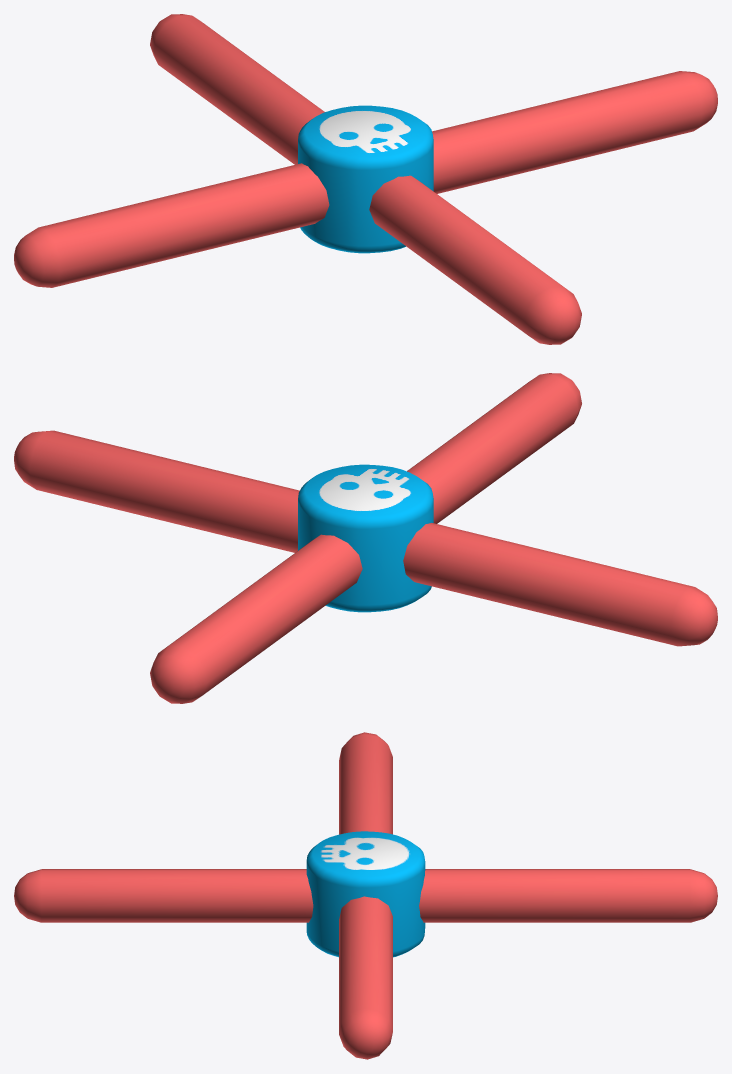
Rendered from stick_4_1.FBX.
The picture shows the model from 3 angles, top to bottom: view 1: azimuth 30°, elevation 25°; view 2: azimuth 150°, elevation 25°; view 3: azimuth 270°, elevation 25°; orthographic projection. The views are drawn at different scales.
Visible parts, largest first — view 1: stick_4_1; view 2: stick_4_1; view 3: stick_4_1.
Part boxes in pixels (x1,y1,x2,y2): stick_4_1: (14,14,717,344); stick_4_1: (14,373,717,703); stick_4_1: (14,732,717,1059).
Bounding box in the file's own units: 8.82 × 1.16 × 8.83.
Materials: 1 (1 with a texture image).
